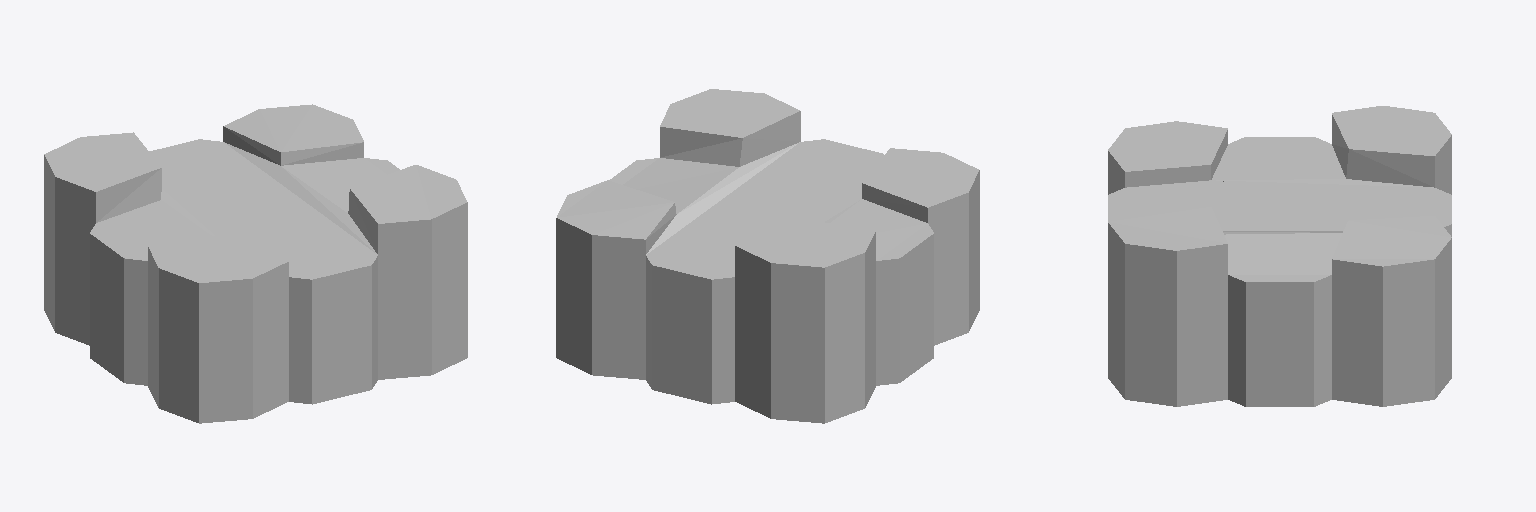
Rendered from rocks.obj.
3 views of the same model, side by side, from view 1: azimuth 30°, elevation 25°; view 2: azimuth 150°, elevation 25°; view 3: azimuth 270°, elevation 25° (orthographic).
Parts seen in each view (by area): view 1: rocks; view 2: rocks; view 3: rocks.
Part boxes in pixels (bbox=[...]): rocks: bbox=[44, 104, 467, 423]; rocks: bbox=[556, 89, 979, 423]; rocks: bbox=[1108, 106, 1451, 406].
Size of the model in its own units: 1 by 0.5017 by 1.